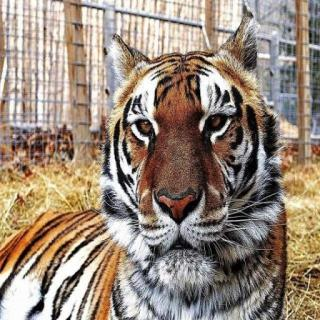Tiger: (0, 34, 317, 320)
